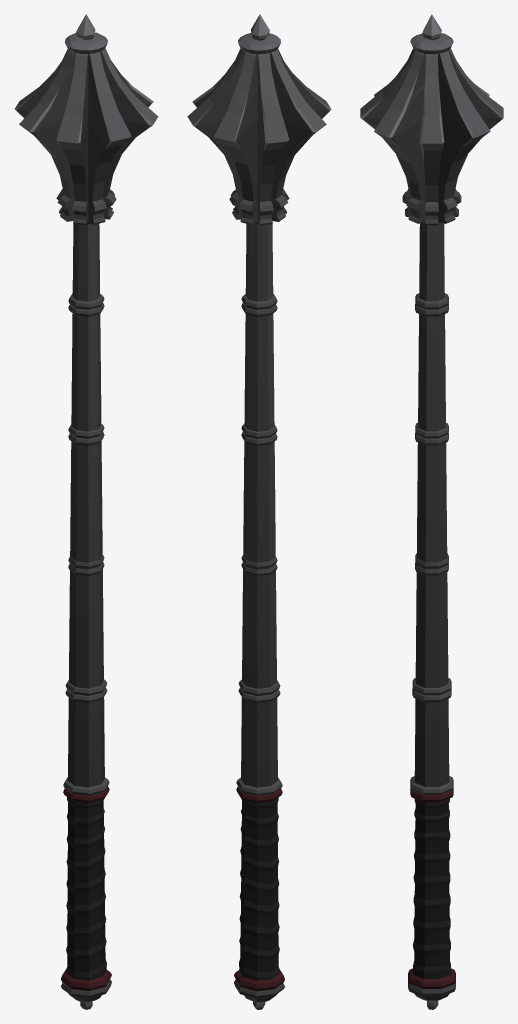
The model's file is bluntHeavyLongMace.glb.
3 views of the same model, side by side, from view 1: azimuth 30°, elevation 25°; view 2: azimuth 150°, elevation 25°; view 3: azimuth 270°, elevation 25° (orthographic).
Visible parts, largest first — view 1: bluntHeavyLongMace; view 2: bluntHeavyLongMace; view 3: bluntHeavyLongMace.
Boxes of the visible parts, x1,y1,x2,y2 form: bluntHeavyLongMace: (15, 14, 158, 1009); bluntHeavyLongMace: (187, 14, 331, 1009); bluntHeavyLongMace: (360, 14, 503, 1009).
Bounding box in the file's own units: 0.162 × 1.24 × 0.162.
